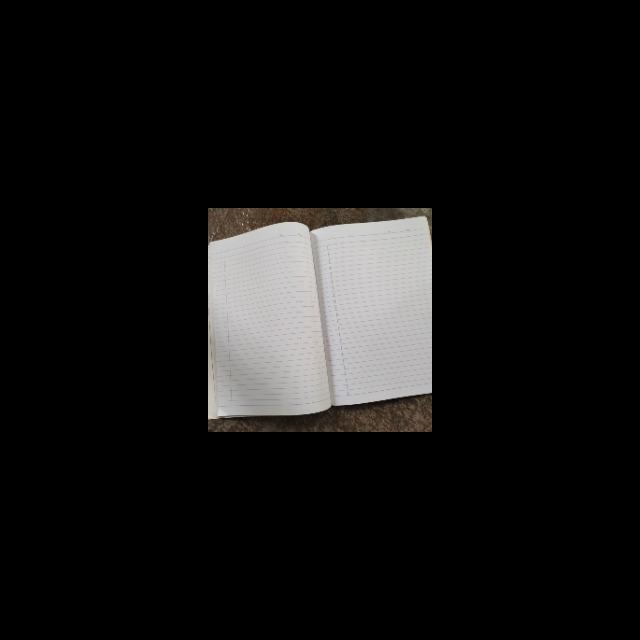paper: (208, 214, 432, 432)
